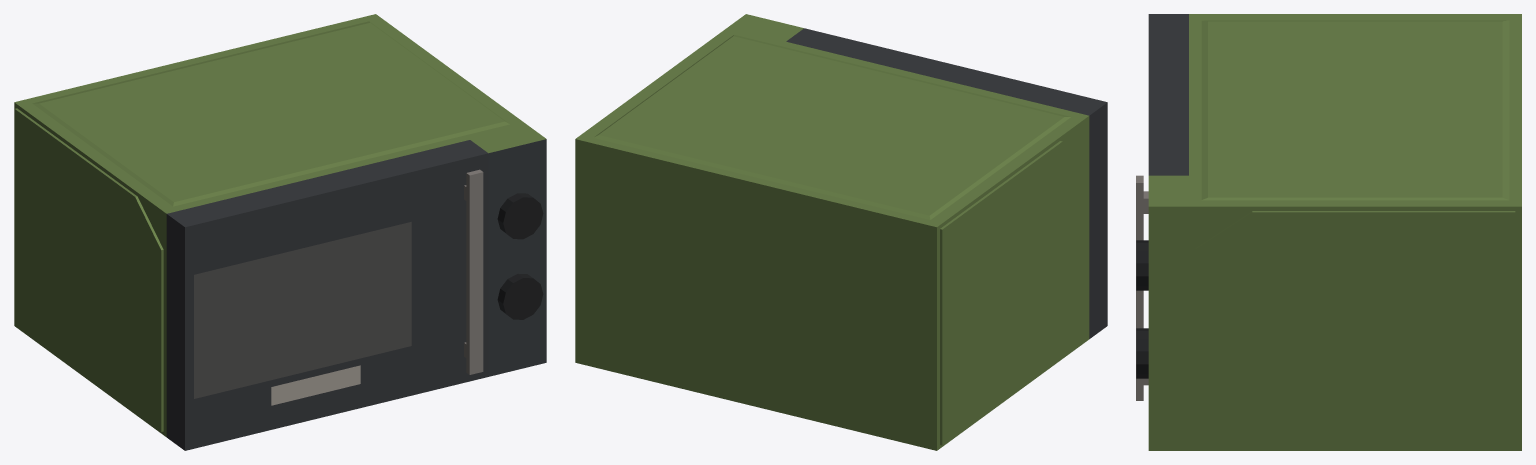
Rendered from microwavewitchverticalhandle_01_B.gltf.
The picture shows the model from 3 angles, left to right: view 1: azimuth 30°, elevation 25°; view 2: azimuth 150°, elevation 25°; view 3: azimuth 270°, elevation 25°; orthographic projection. The views are drawn at different scales.
Visible parts, largest first — view 1: microwavewitchverticalhandle_01_B, Doorformicrowavewitchverticalhandle_01_B, Switchformicrowavewitchverticalhandle_01_B, Switchformicrowavewitchverticalhandle_02_B; view 2: microwavewitchverticalhandle_01_B, Doorformicrowavewitchverticalhandle_01_B; view 3: microwavewitchverticalhandle_01_B, Doorformicrowavewitchverticalhandle_01_B, Switchformicrowavewitchverticalhandle_01_B, Switchformicrowavewitchverticalhandle_02_B.
Boxes of the visible parts, x1,y1,x2,y2 form: microwavewitchverticalhandle_01_B: (14,14,546,436); Doorformicrowavewitchverticalhandle_01_B: (166,140,488,450); Switchformicrowavewitchverticalhandle_01_B: (497,193,543,239); Switchformicrowavewitchverticalhandle_02_B: (497,273,543,319); microwavewitchverticalhandle_01_B: (575,14,1089,450); Doorformicrowavewitchverticalhandle_01_B: (786,28,1107,338); microwavewitchverticalhandle_01_B: (1148,14,1521,450); Doorformicrowavewitchverticalhandle_01_B: (1136,14,1188,400); Switchformicrowavewitchverticalhandle_01_B: (1136,240,1148,290); Switchformicrowavewitchverticalhandle_02_B: (1136,328,1148,378).
Bounding box in the file's own units: 0.446 × 0.2614 × 0.3721.
Materials: 1 (1 with a texture image).
